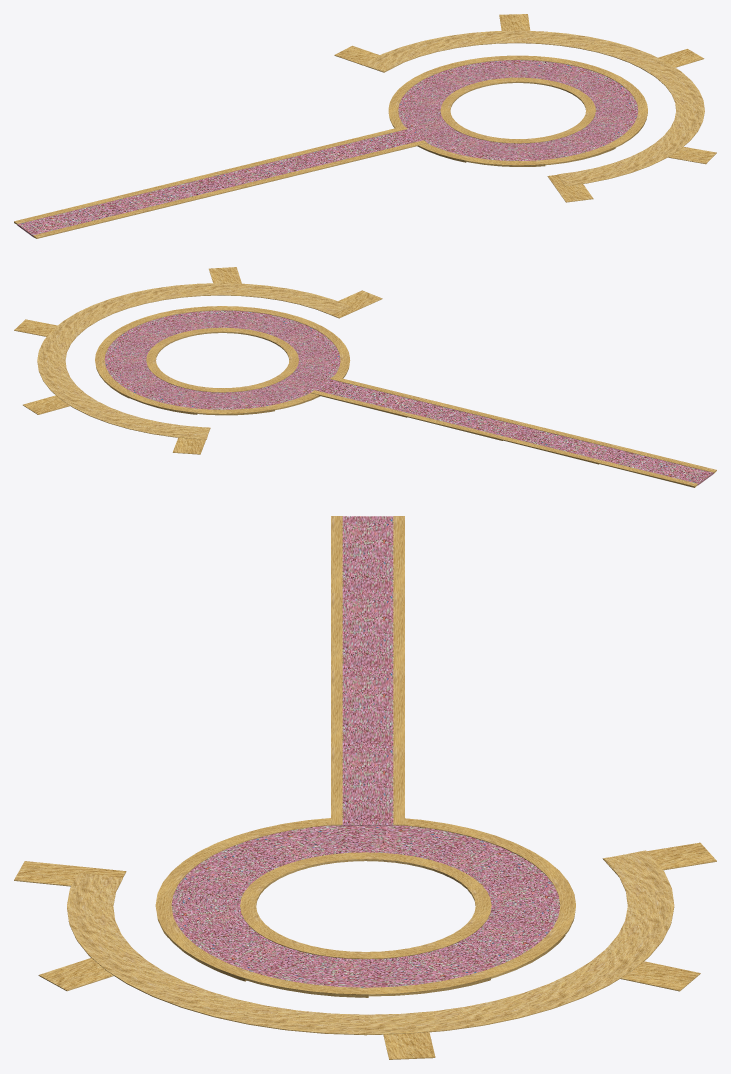
File: BarbieLandFloor.obj
3 views of the same model, one above another, from view 1: azimuth 30°, elevation 25°; view 2: azimuth 150°, elevation 25°; view 3: azimuth 270°, elevation 25° (orthographic). The views are drawn at different scales.
Parts seen in each view (by area): view 1: Road.001, Road, Cube, Cube.007, Cube.006, Cube.003, Cube.004, Cube.005; view 2: Road.001, Road, Cube, Cube.007, Cube.004, Cube.006, Cube.003, Cube.005; view 3: Road.001, Road, Cube, Cube.007, Cube.004, Cube.006, Cube.003, Cube.005.
Part boxes in pixels (x1=…): Road.001: x1=388, y1=55, x2=647, y2=166; Road: x1=14, y1=126, x2=426, y2=238; Cube: x1=361, y1=30, x2=704, y2=186; Cube.007: x1=547, y1=174, x2=593, y2=202; Cube.006: x1=668, y1=146, x2=716, y2=164; Cube.003: x1=334, y1=45, x2=401, y2=72; Cube.004: x1=499, y1=14, x2=530, y2=30; Cube.005: x1=642, y1=49, x2=704, y2=72; Road.001: x1=95, y1=306, x2=350, y2=415; Road: x1=311, y1=376, x2=716, y2=487; Cube: x1=37, y1=283, x2=351, y2=439; Cube.007: x1=331, y1=290, x2=382, y2=318; Cube.004: x1=23, y1=395, x2=69, y2=414; Cube.006: x1=209, y1=267, x2=241, y2=283; Cube.003: x1=172, y1=427, x2=210, y2=454; Cube.005: x1=14, y1=319, x2=79, y2=336; Road.001: x1=155, y1=818, x2=575, y2=997; Road: x1=331, y1=516, x2=404, y2=825; Cube: x1=67, y1=850, x2=674, y2=1035; Cube.007: x1=14, y1=861, x2=126, y2=886; Cube.004: x1=620, y1=961, x2=700, y2=991; Cube.006: x1=38, y1=958, x2=113, y2=991; Cube.003: x1=602, y1=842, x2=716, y2=876; Cube.005: x1=383, y1=1032, x2=435, y2=1059.
Size of the model in its own units: 24.64 by 0.095 by 13.52.
Materials: 12 (12 with a texture image).
